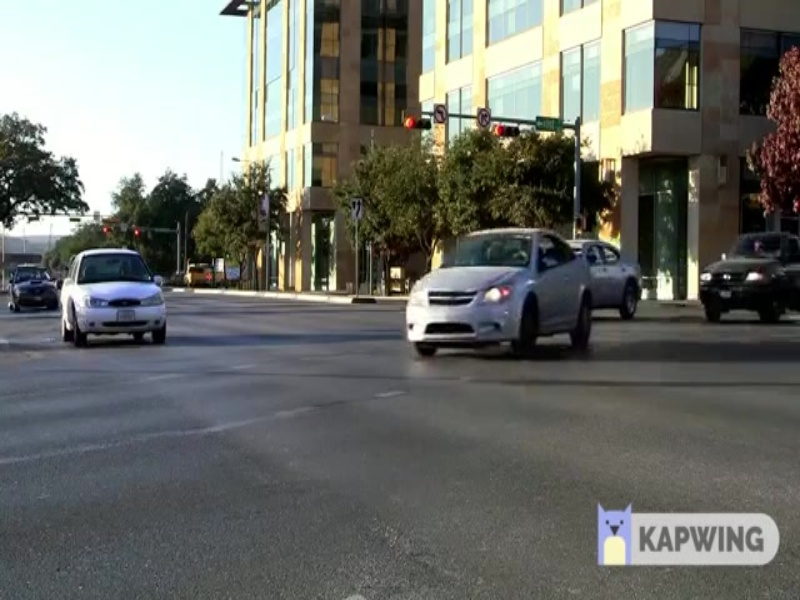car: (395, 230, 599, 364), (58, 248, 171, 347), (691, 222, 800, 320)
